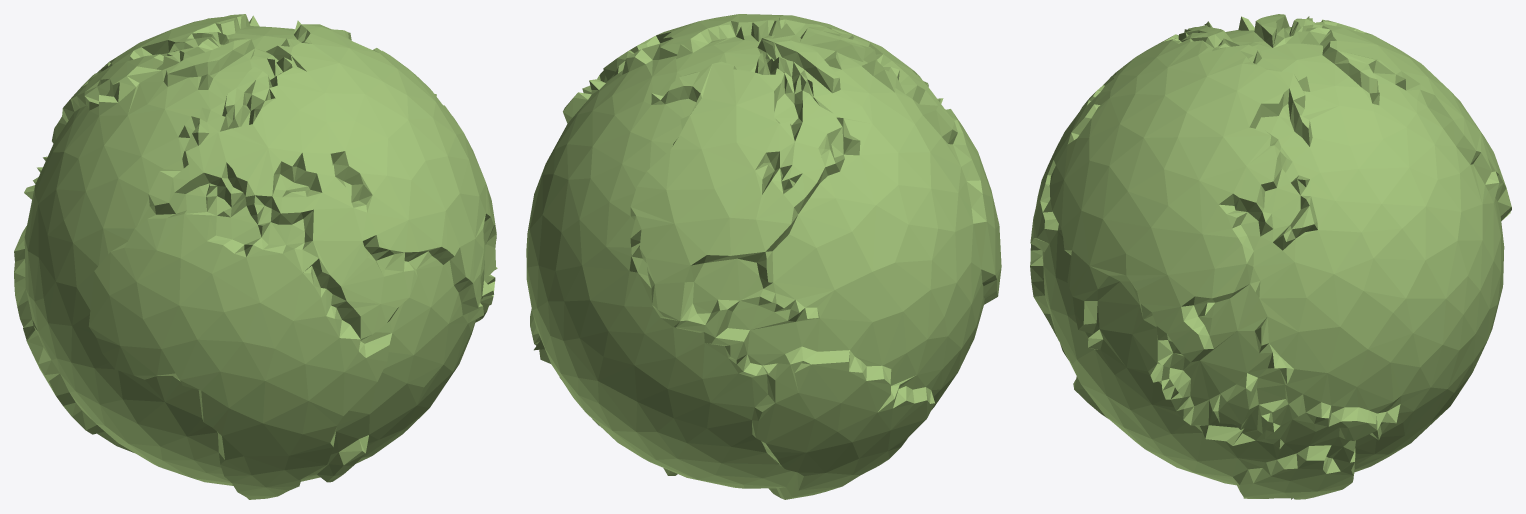
The model's file is earth.glb.
3 renders of one model, left to right at view 1: azimuth 30°, elevation 25°; view 2: azimuth 150°, elevation 25°; view 3: azimuth 270°, elevation 25°, orthographic.
Parts seen in each view (by area): view 1: foldfx_049; view 2: foldfx_049; view 3: foldfx_049.
Boxes of the visible parts, left/top/right/bottom form: foldfx_049: left=14, top=14, right=497, bottom=499; foldfx_049: left=526, top=14, right=1001, bottom=499; foldfx_049: left=1030, top=14, right=1511, bottom=499.
Size of the model in its own units: 2.06 by 2.1 by 2.09.
